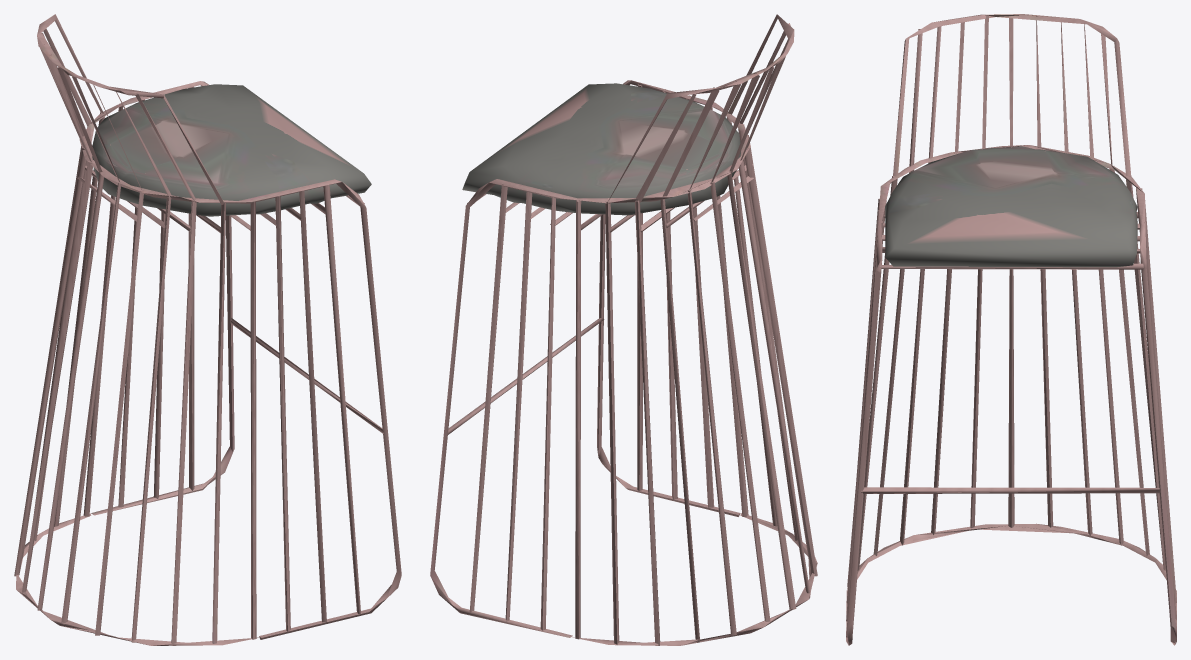
The model's file is Chair0025.obj.
3 renders of one model, left to right at view 1: azimuth 30°, elevation 25°; view 2: azimuth 150°, elevation 25°; view 3: azimuth 270°, elevation 25°, orthographic. The views are drawn at different scales.
Size of the model in its own units: 0.551 by 1.02 by 0.581.
Materials: 1 (1 with a texture image).
